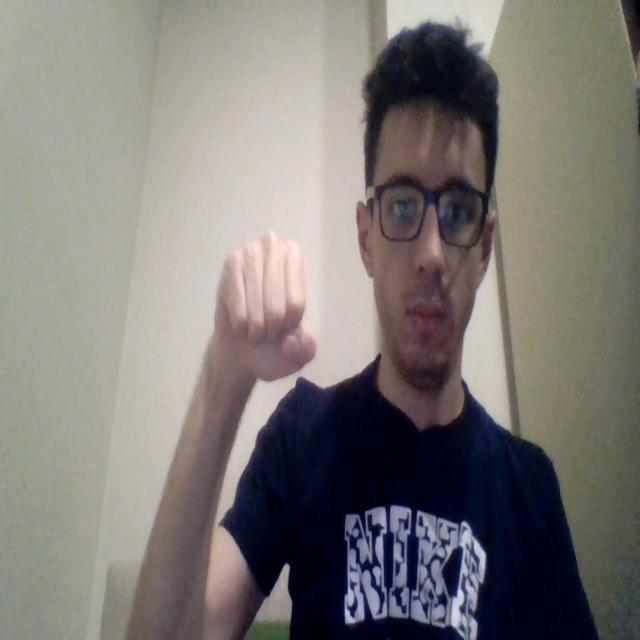yes: (213, 228, 317, 385)
